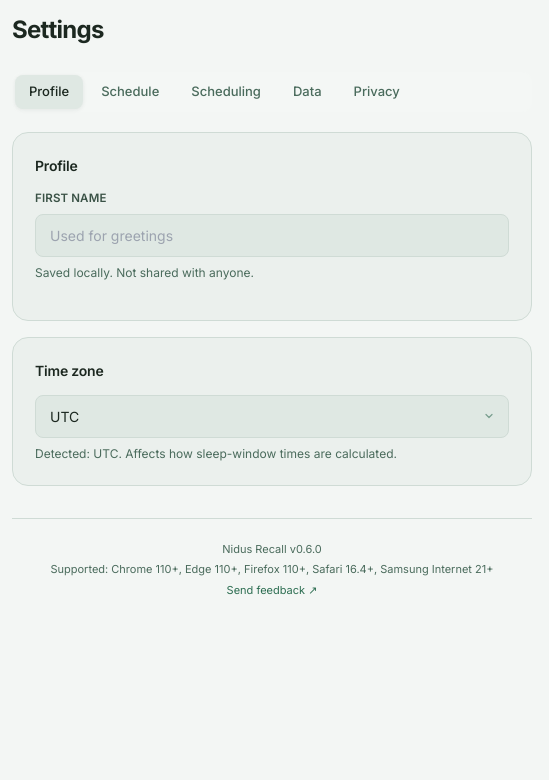
SettingsView — Privacy tab › Cancel in confirmation panel returns to initial state
Click the button "Privacy". click: (377, 92)
box: [340, 75, 414, 108]
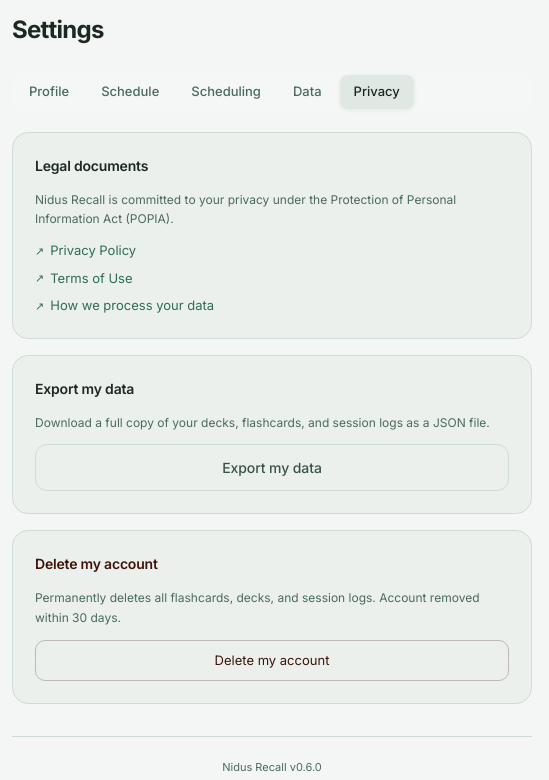
Click the button with test id "delete-account-btn". click: (272, 661)
box: [35, 640, 509, 682]
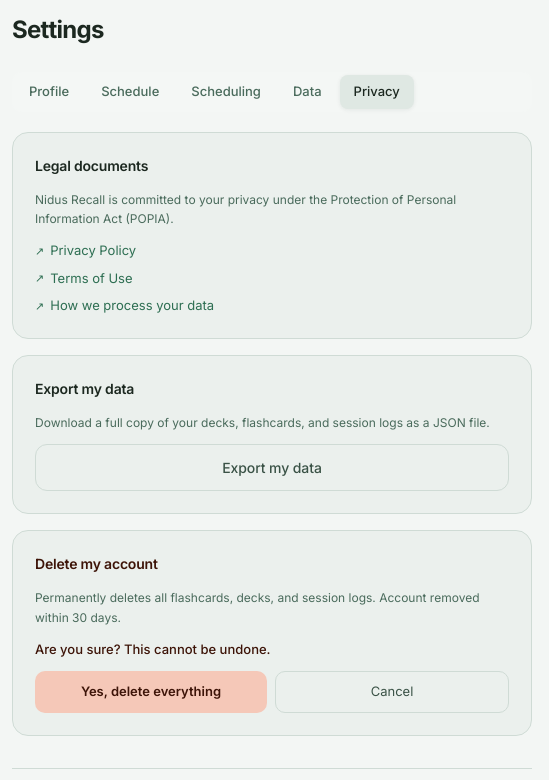
Click the button with test id "delete-cancel-btn". click: (392, 692)
box: [275, 672, 509, 713]
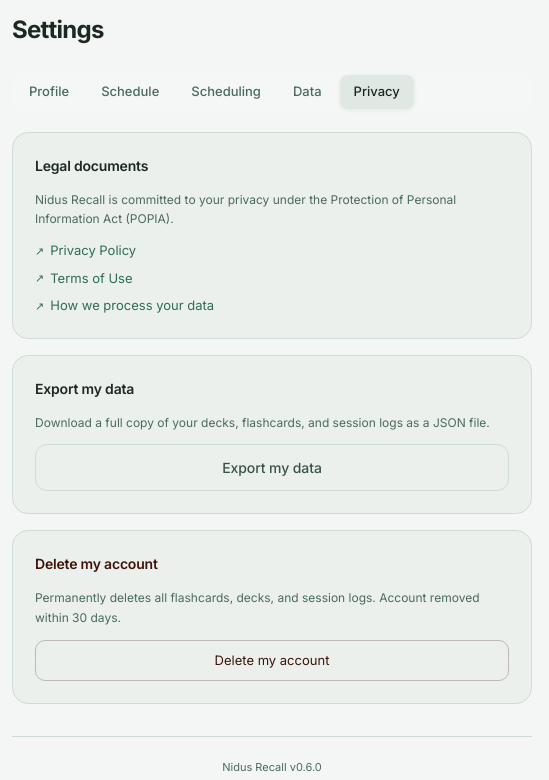
Check: the button with test id "delete-account-btn" is shown, box [35, 640, 509, 682]
